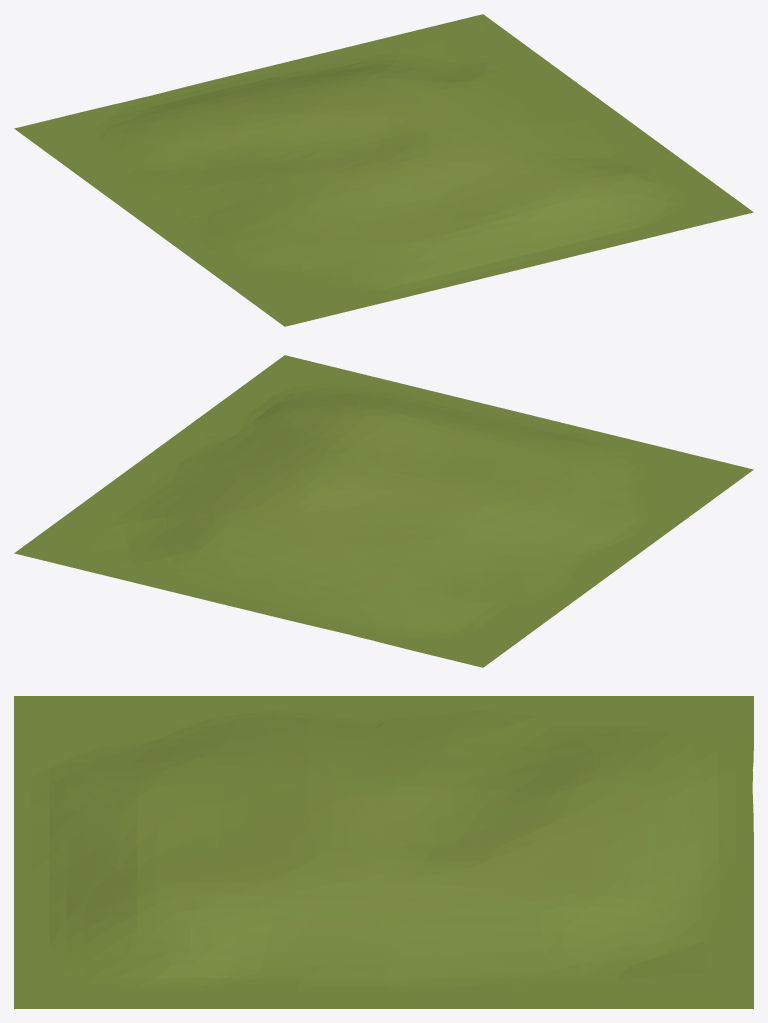
Rendered from Terrain_01.fbx.
The picture shows the model from 3 angles, top to bottom: view 1: azimuth 30°, elevation 25°; view 2: azimuth 150°, elevation 25°; view 3: azimuth 270°, elevation 25°; orthographic projection. The views are drawn at different scales.
Visible parts, largest first — view 1: Terrain_01; view 2: Terrain_01; view 3: Terrain_01.
Boxes of the visible parts, x1=… form: Terrain_01: x1=14, y1=14, x2=753, y2=326; Terrain_01: x1=14, y1=355, x2=753, y2=667; Terrain_01: x1=14, y1=696, x2=753, y2=1008.
Bounding box in the file's own units: 128 × 4.82 × 128.
